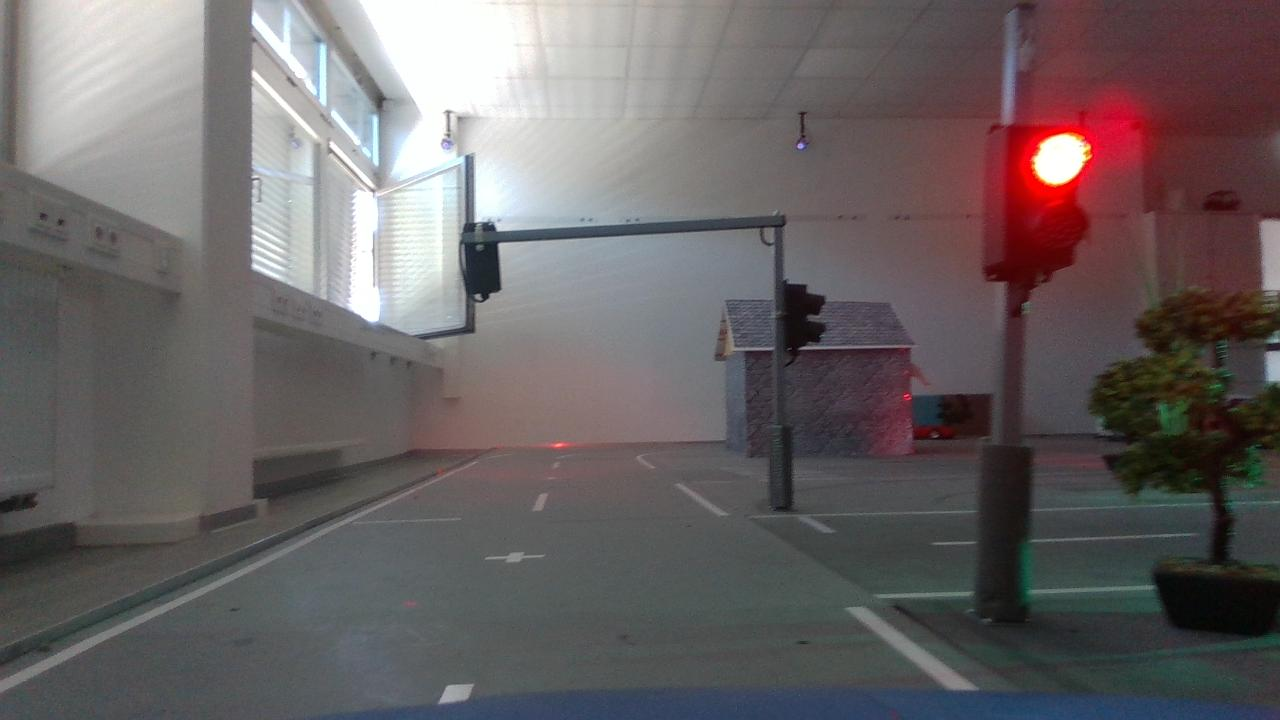traffic_light_red: (952, 99, 1108, 314)
